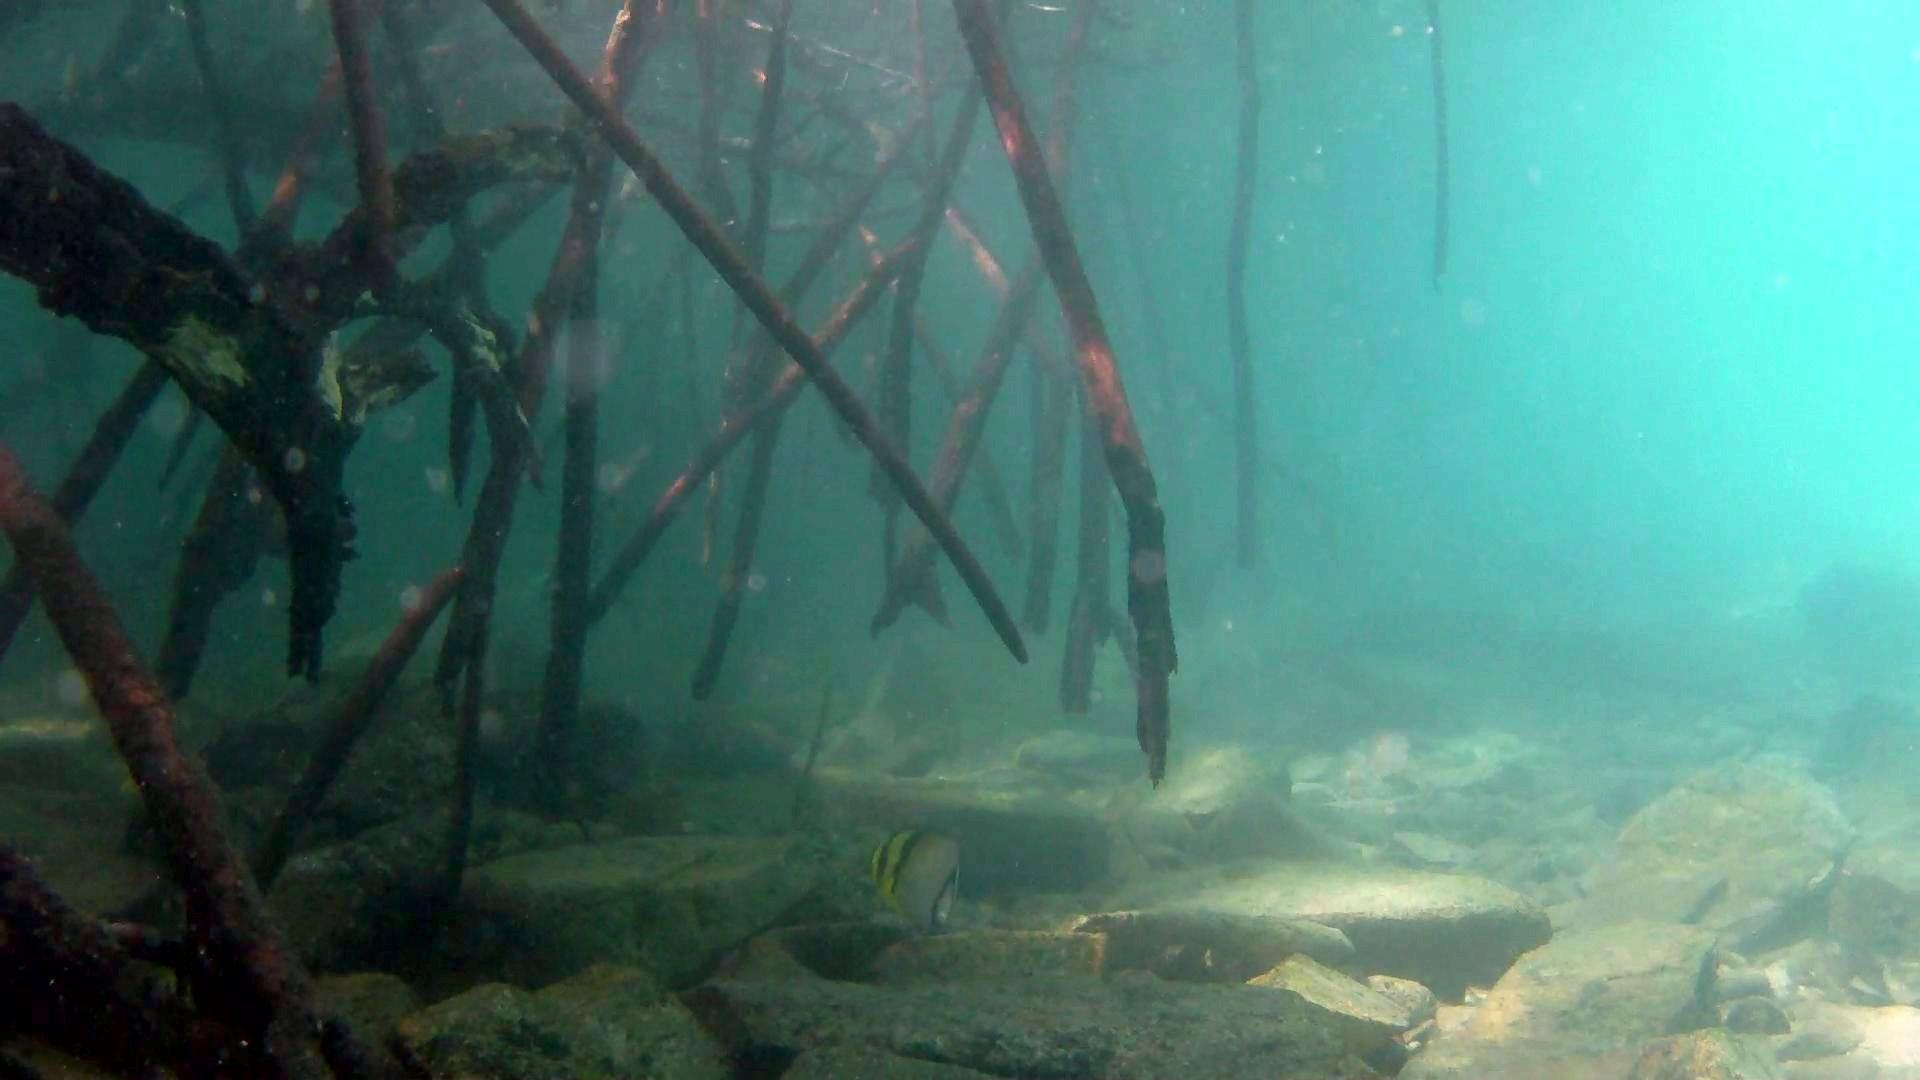chaetodon vagabundus: (864, 822, 965, 934)
